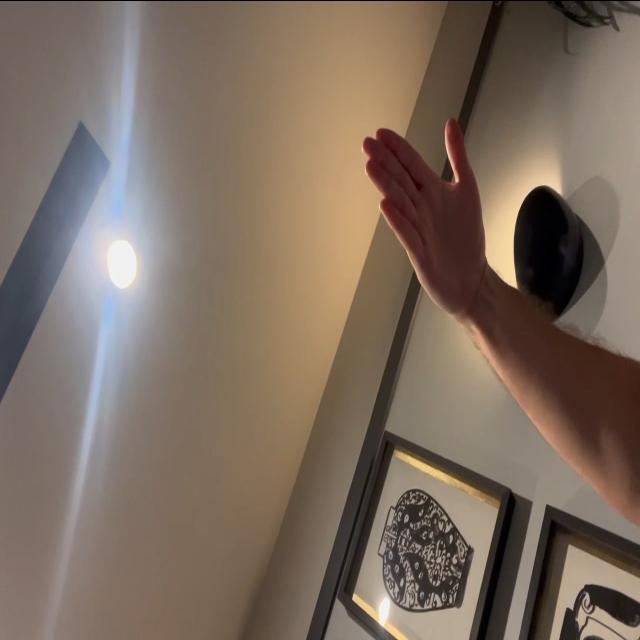Paper: (360, 112, 486, 324)
